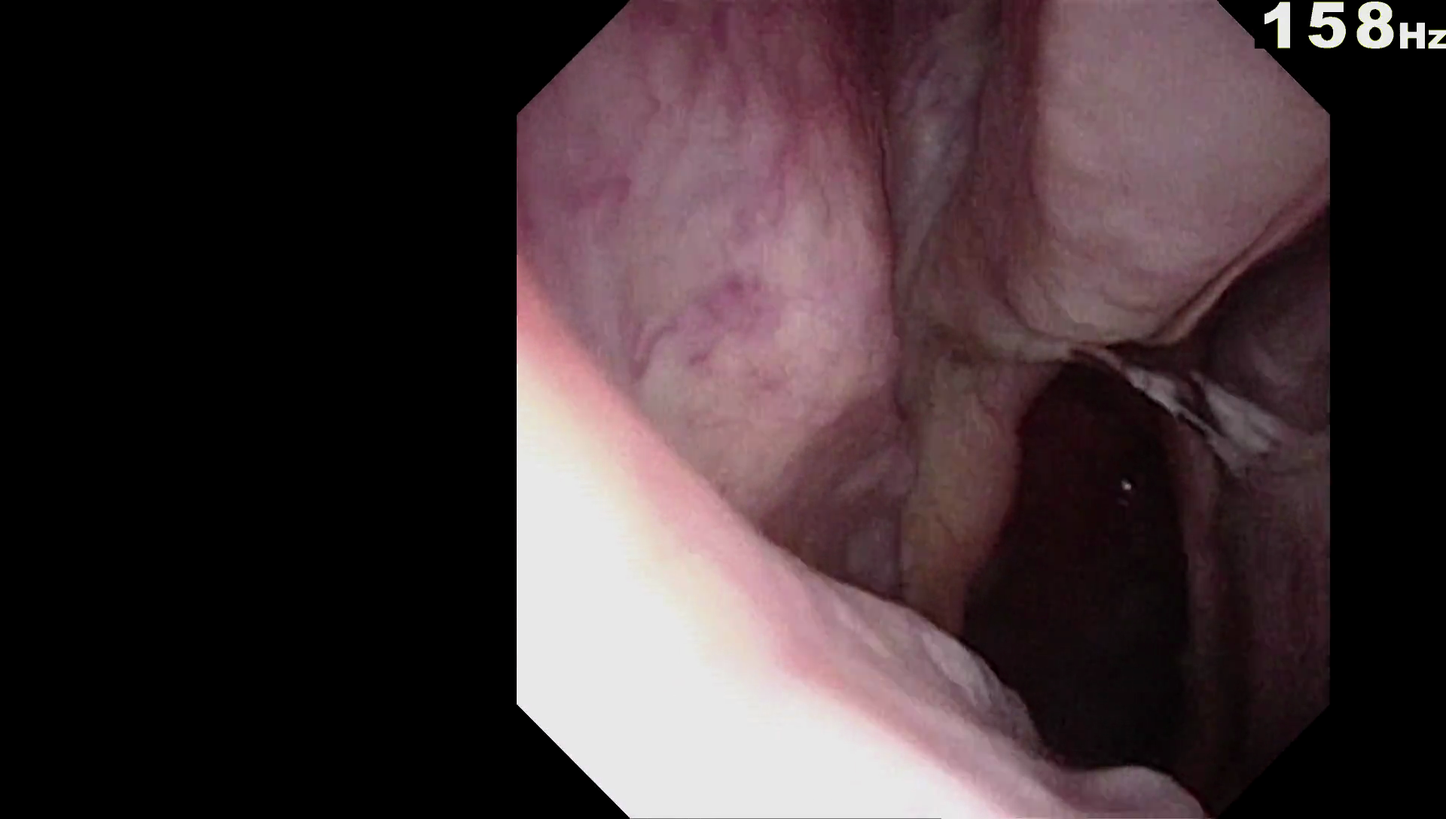close_wall: (526, 282, 1120, 815)
next: (955, 319, 1223, 779)
